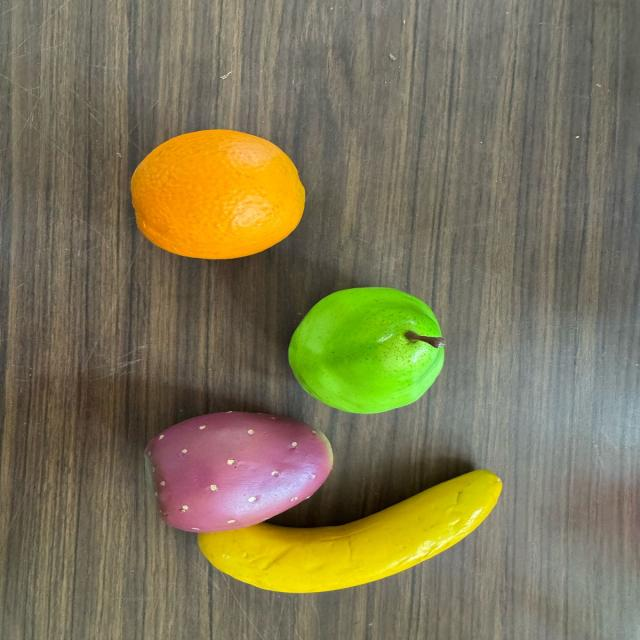banana: (200, 465, 504, 595)
orange: (130, 130, 306, 258)
pear: (287, 286, 448, 412)
tuna: (142, 410, 333, 532)
